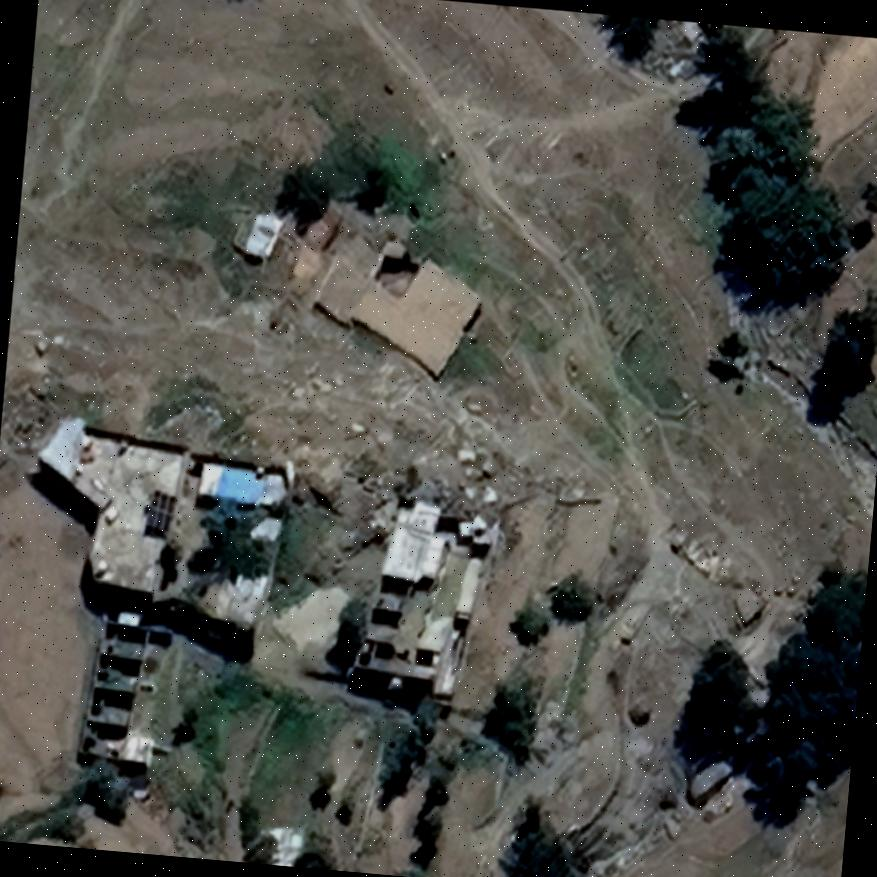Solarpanel: (142, 487, 177, 535)
